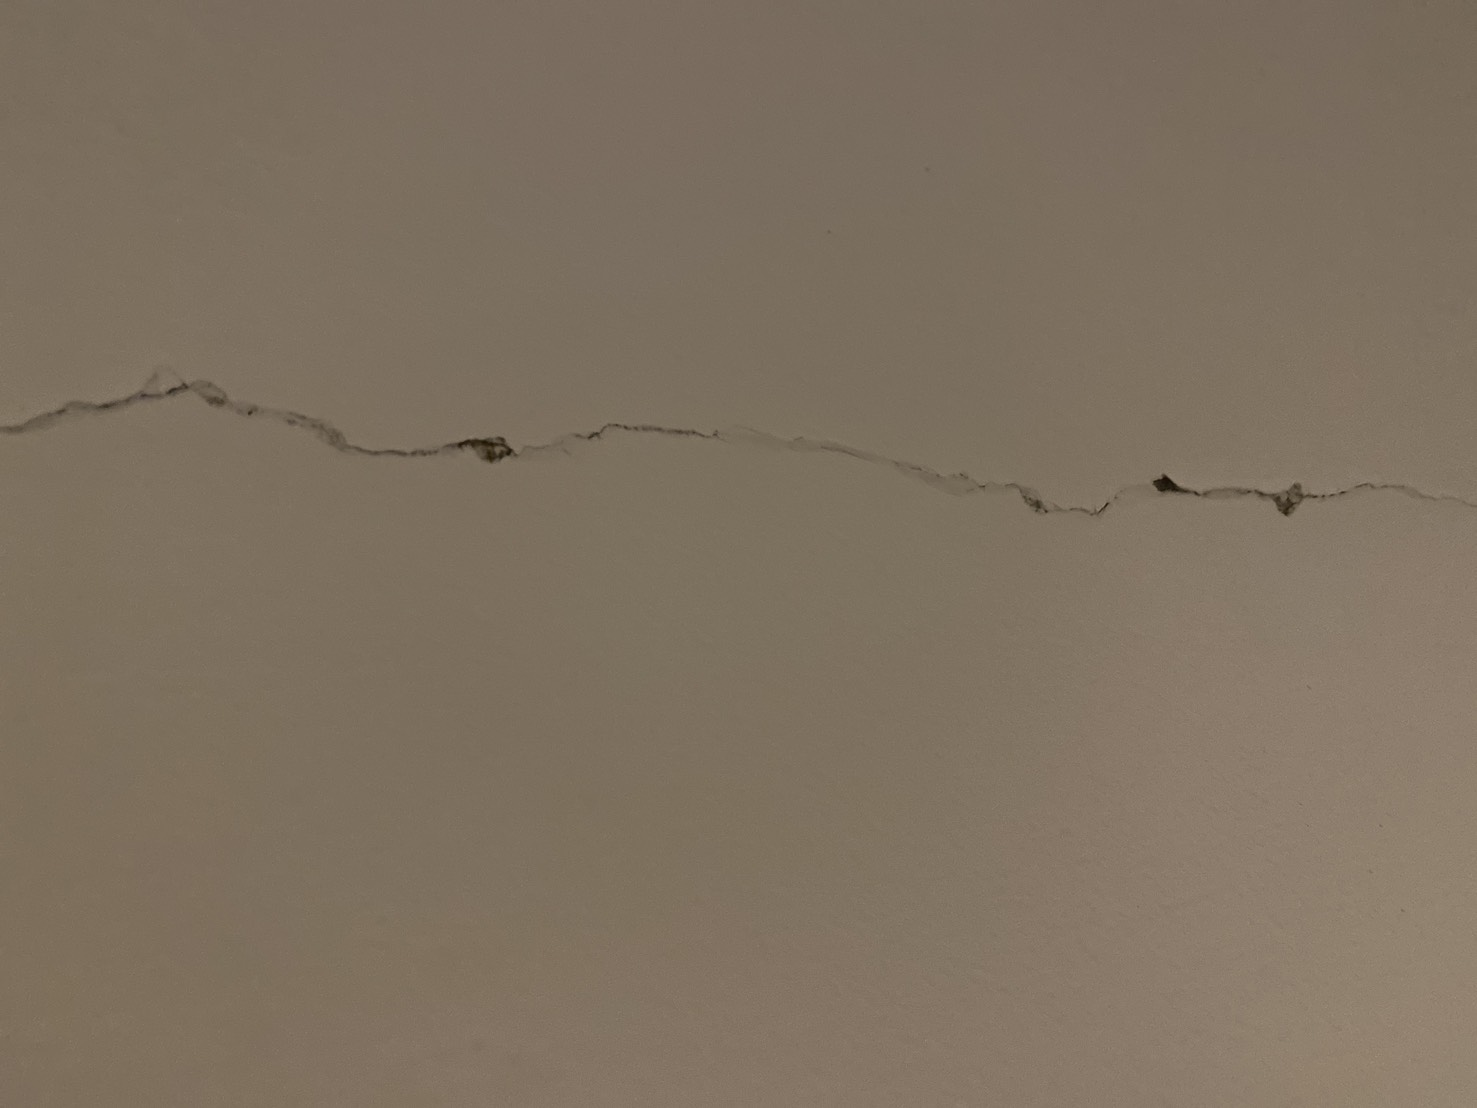Low: (3, 360, 1477, 551)
